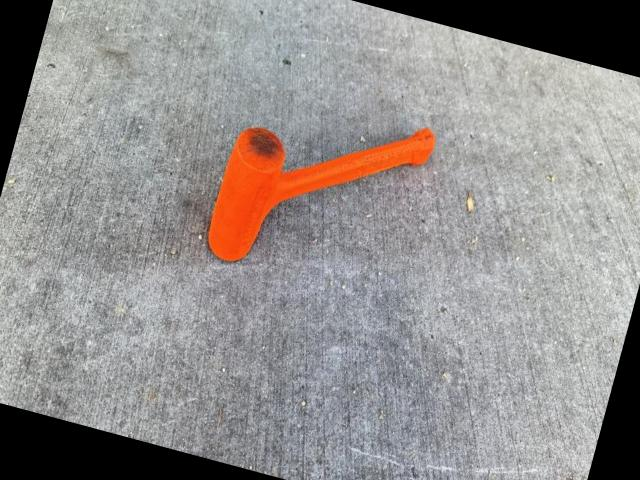hammer: (198, 74, 440, 307)
